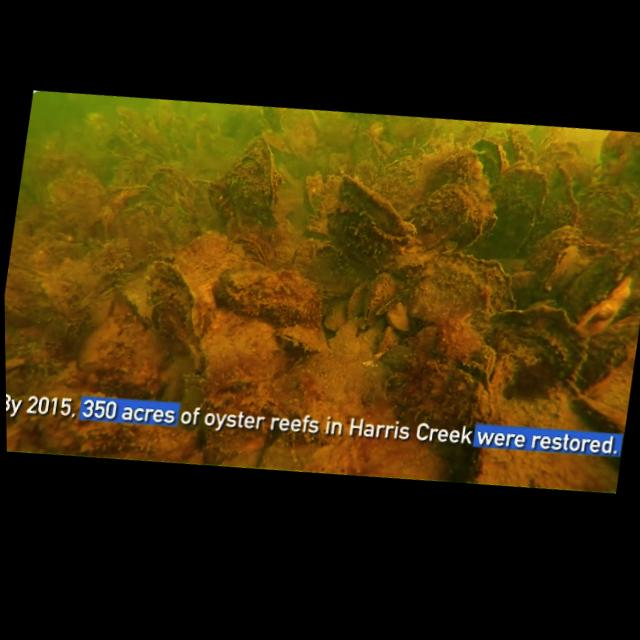Oyster-Closed: (224, 135, 282, 224), (540, 244, 589, 298), (364, 272, 405, 324), (277, 324, 327, 351), (232, 235, 267, 265)
Oyster-Indeterminate: (380, 326, 490, 444), (18, 393, 203, 461), (402, 251, 514, 361), (328, 175, 425, 272), (490, 303, 588, 390), (200, 307, 287, 388), (145, 260, 201, 363), (410, 183, 496, 247), (175, 230, 245, 288), (116, 199, 175, 263), (213, 261, 277, 315), (48, 169, 105, 227), (579, 276, 632, 334), (420, 148, 489, 192), (598, 131, 640, 202), (487, 196, 535, 258), (525, 225, 584, 271), (498, 161, 547, 215), (78, 316, 121, 370), (573, 391, 627, 433), (162, 192, 201, 237), (148, 165, 191, 205), (473, 138, 509, 184), (612, 225, 640, 275), (106, 184, 151, 210), (510, 270, 539, 307), (61, 302, 91, 335), (446, 448, 475, 480), (347, 279, 370, 319), (91, 291, 115, 326), (325, 299, 348, 331), (387, 302, 411, 331), (5, 356, 26, 372)
Oyster-Open: (271, 417, 301, 431)
